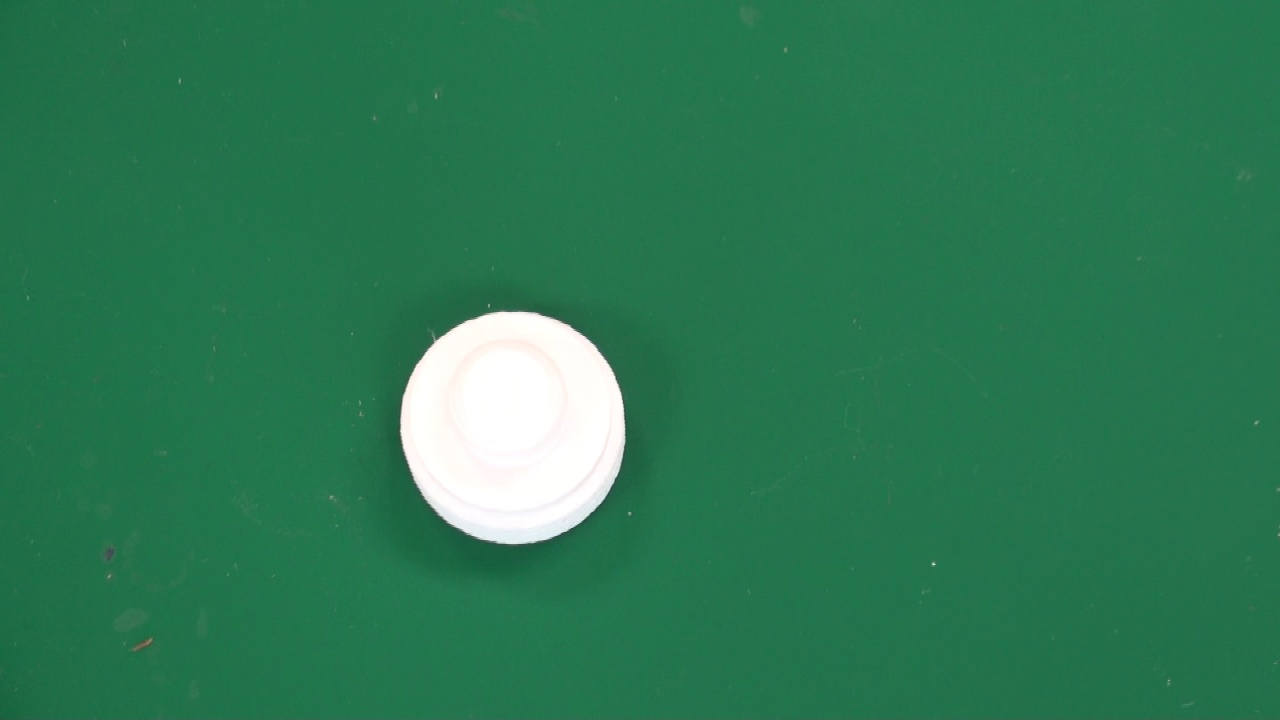breather_plug: (393, 312, 625, 549)
